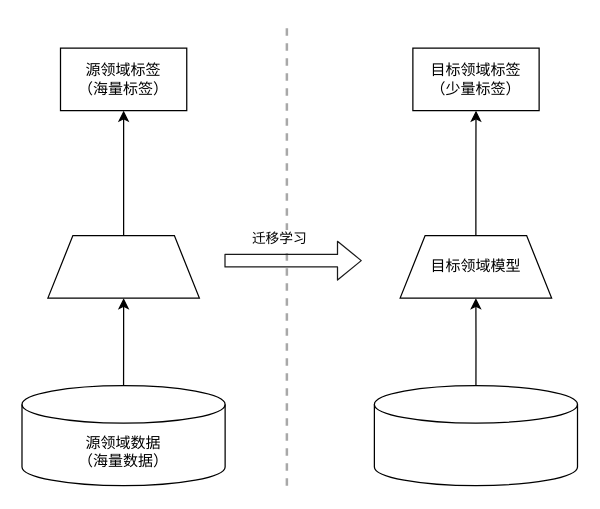
The diagram is 600 pixels wide and 509 high, and some of its shapes have lost their labels. Each missing label, with the box of its shape:
源领域模型: (47, 234, 199, 298)
目标领域数据 （少量数据）: (373, 384, 578, 486)
